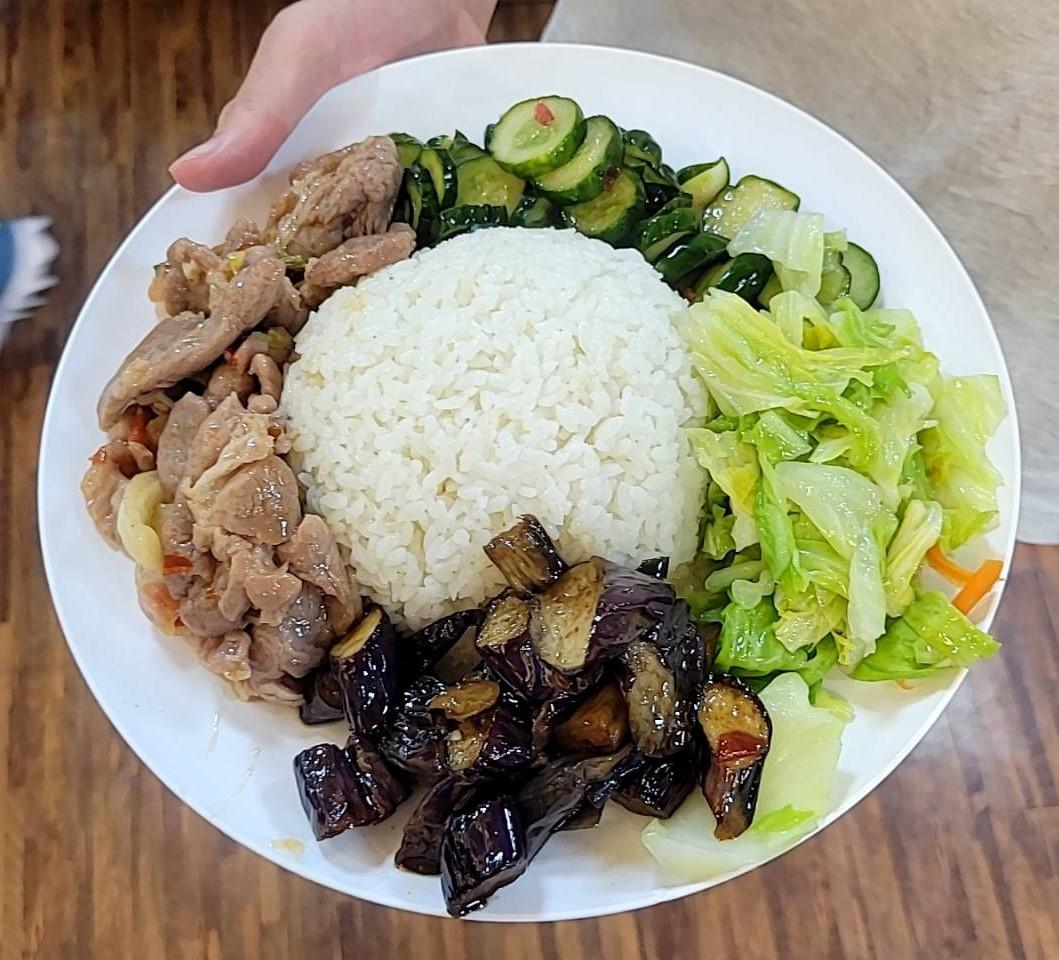big fried chicken leg: (34, 30, 1030, 931)
big herbal chicken leg: (283, 218, 715, 636)
braised fish fillet: (293, 550, 773, 911), (692, 263, 1005, 688), (377, 84, 888, 311)
braised pork: (94, 119, 416, 706)
